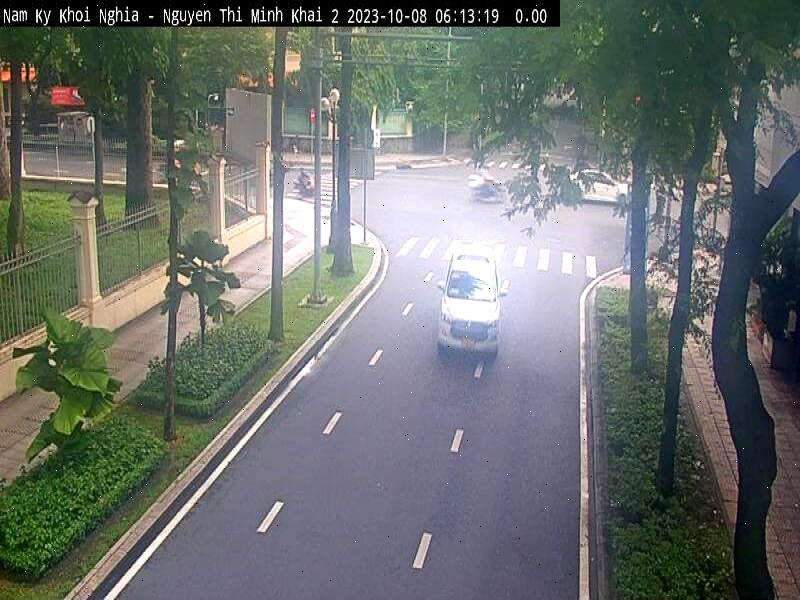car: (436, 243, 505, 359), (565, 169, 635, 202)
